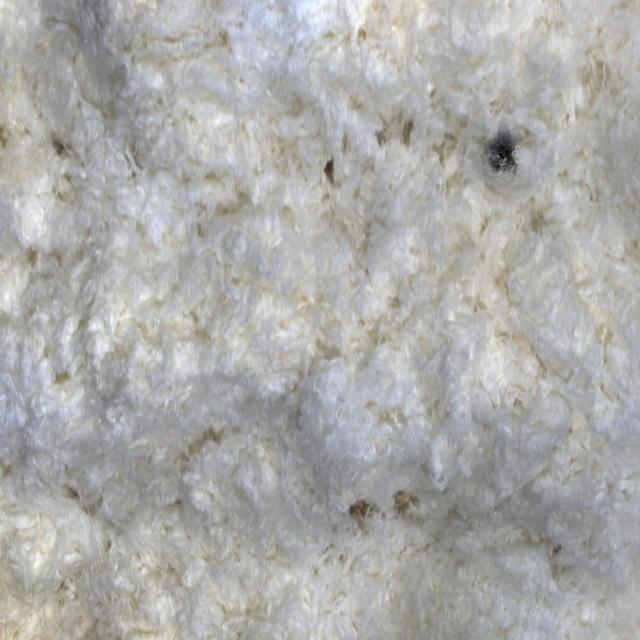dust: (472, 101, 538, 206)
